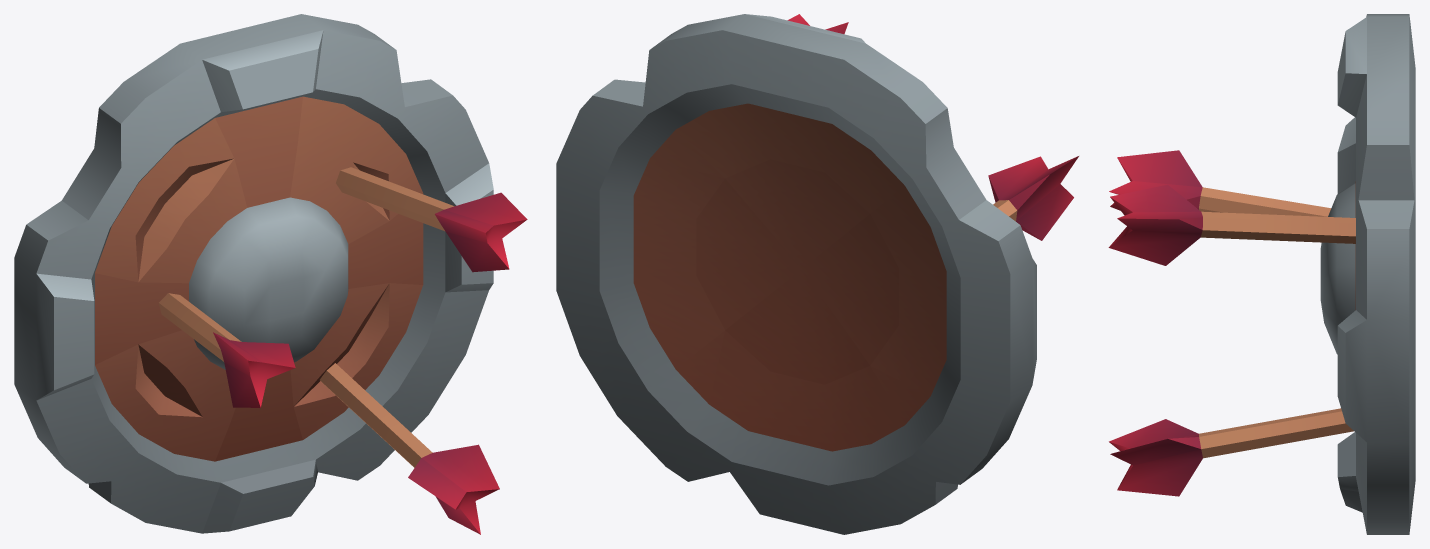
File: Skeleton_Shield_Small_B.gltf
3 views of the same model, side by side, from view 1: azimuth 30°, elevation 25°; view 2: azimuth 150°, elevation 25°; view 3: azimuth 270°, elevation 25° (orthographic). The views are drawn at different scales.
Visible parts, largest first — view 1: Skeleton_Shield_Small_B; view 2: Skeleton_Shield_Small_B; view 3: Skeleton_Shield_Small_B.
Part boxes in pixels (bbox=[...]): Skeleton_Shield_Small_B: bbox=[14, 14, 527, 534]; Skeleton_Shield_Small_B: bbox=[556, 14, 1078, 534]; Skeleton_Shield_Small_B: bbox=[1108, 14, 1415, 534].
Size of the model in its own units: 0.8322 by 0.8322 by 0.5058.
Materials: 1 (1 with a texture image).
